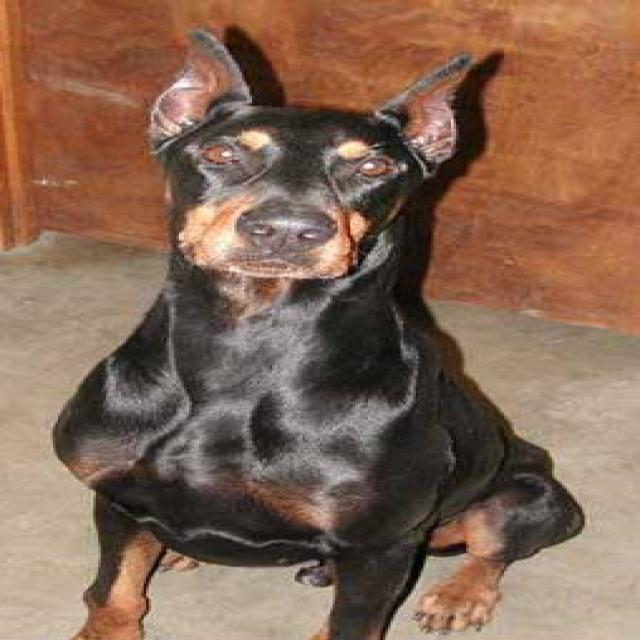Dog: (104, 14, 500, 293)
